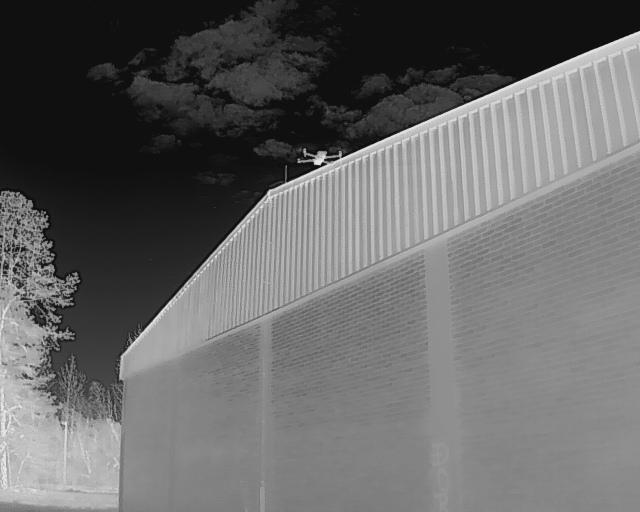drone: (289, 146, 344, 176)
